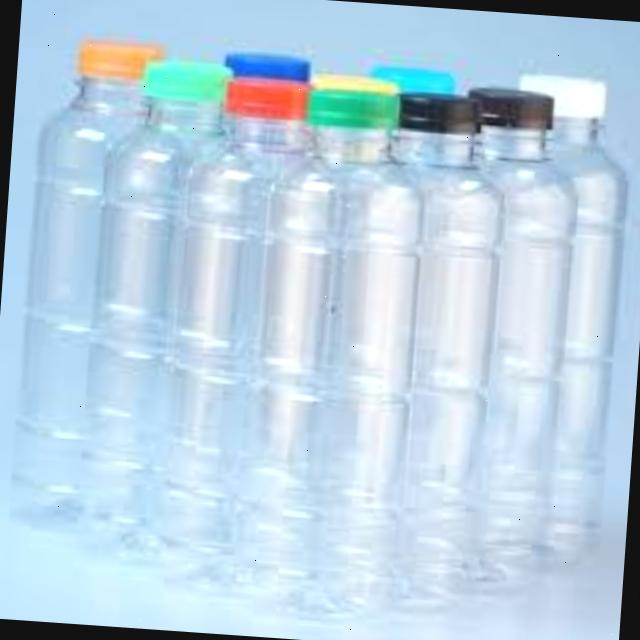trash: (38, 42, 241, 543), (251, 68, 430, 612), (462, 60, 639, 584), (160, 73, 332, 593), (362, 83, 522, 620), (424, 75, 590, 582), (7, 21, 167, 514)
